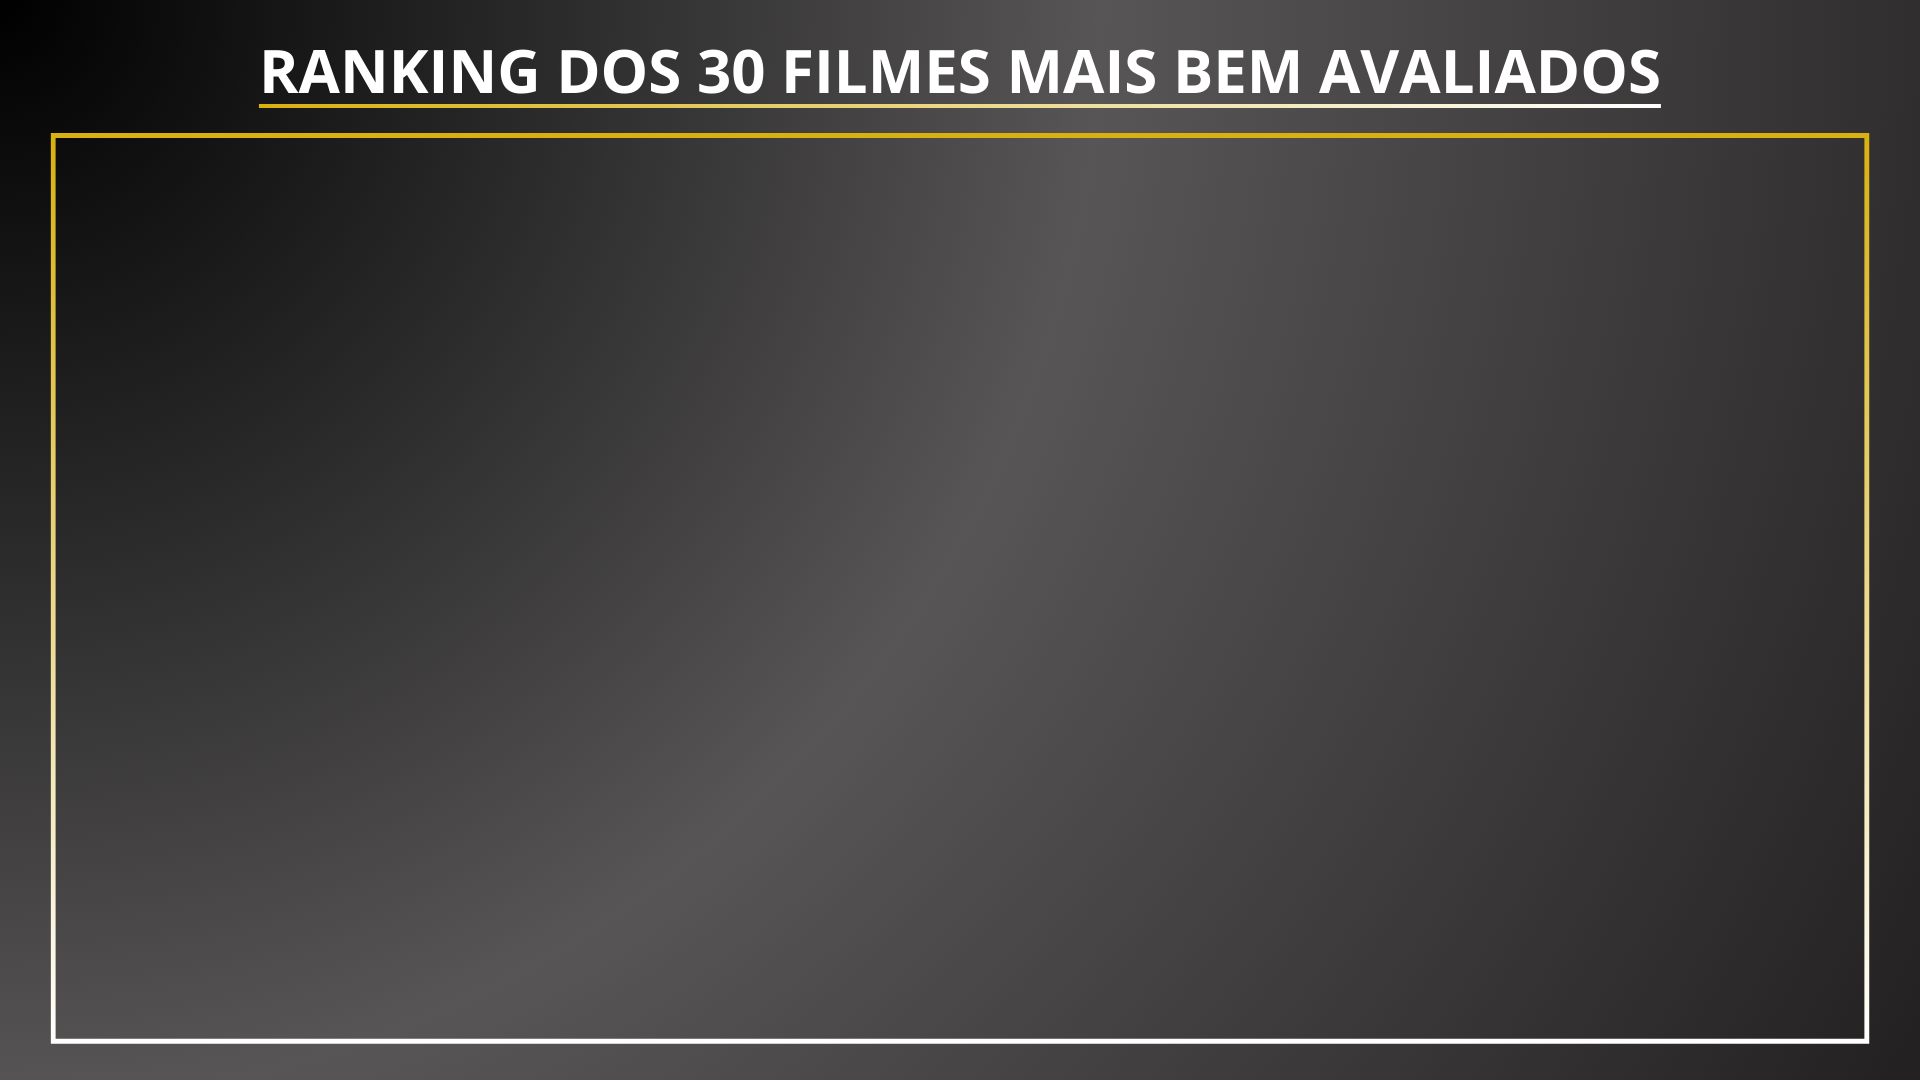

Layout of this report page (visuals, bound fields, positions):
{"tool":"powerbi","page":{"name":"Ranking_Posters","canvas":[1280,720],"ordinal":2},"visuals":[{"type":"htmlContent443BE3AD55E043BF878BED274D3A6855","fields":{"content":["tabela_mestra_filmes.Carrossel_HTML"]},"box":[52.5,94.3,1174,601.1],"z":0}]}

Visuals, with their boxes in screenshot pixels (x1, y1, x2, y2), scaled from the page's 1280x720 canvas onto the 1920x1080 screenshot:
htmlContent443BE3AD55E043BF878BED274D3A6855 - tabela_mestra_filmes.Carrossel_HTML: box(79, 141, 1840, 1043)
